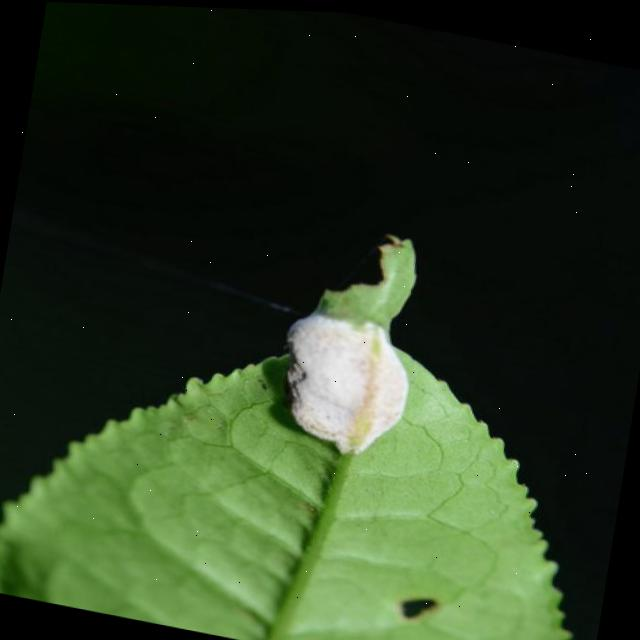Tea cake: (264, 288, 444, 450)
